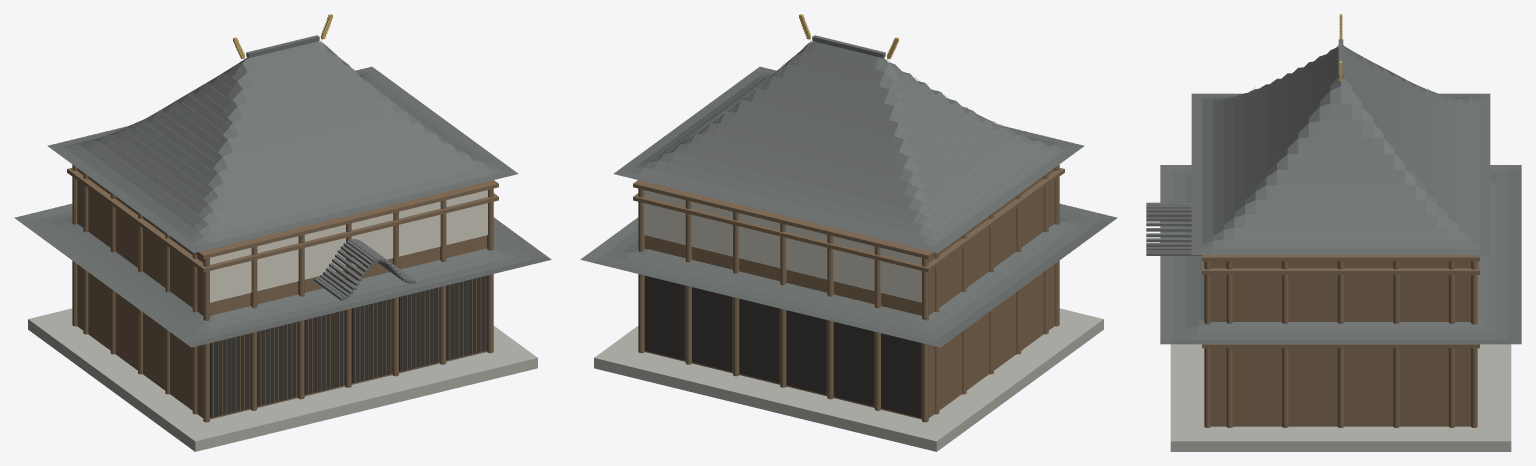
Rendered from daibutsuden.glb.
3 renders of one model, left to right at view 1: azimuth 30°, elevation 25°; view 2: azimuth 150°, elevation 25°; view 3: azimuth 270°, elevation 25°, orthographic.
Parts seen in each view (by area): view 1: curved roof, Cube.001, Cube.010, Cube, Cube.002; view 2: curved roof, Cube.001, Cube.010, Cube, Cube.002; view 3: curved roof, Cube.001, Cube.
Part boxes in pixels (box(x1,y1,x2,y2)): curved roof: box(14, 35, 551, 347); Cube.001: box(67, 164, 498, 422); Cube.010: box(210, 275, 487, 417); Cube: box(28, 308, 537, 451); Cube.002: box(210, 190, 487, 302); curved roof: box(580, 35, 1117, 347); Cube.001: box(633, 164, 1064, 422); Cube.010: box(644, 275, 921, 417); Cube: box(594, 308, 1103, 451); Cube.002: box(644, 190, 921, 302); curved roof: box(1146, 39, 1521, 344); Cube.001: box(1202, 255, 1479, 427); Cube: box(1170, 344, 1511, 451).
Bounding box in the file's own units: 57.01 × 48.74 × 50.48.
